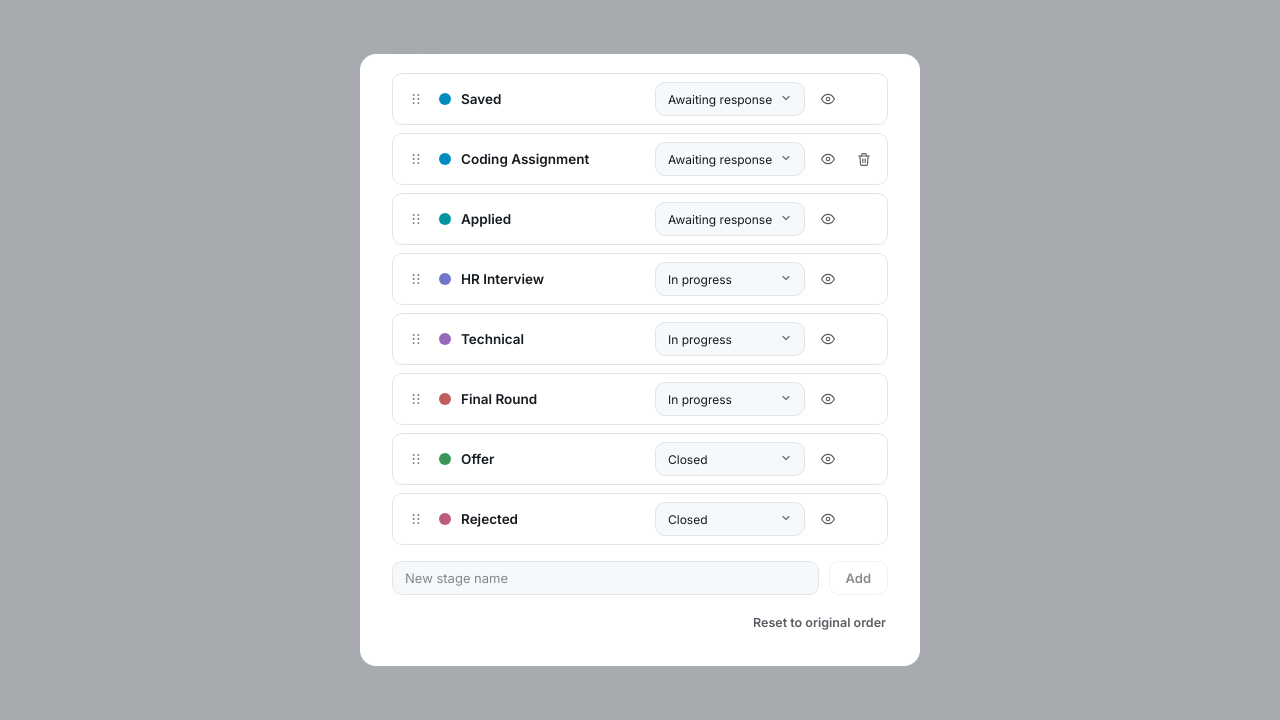
Scenario: PipelineStagesModal › opens the reassign dialog instead of deleting when the custom stage has applications
The image size is (1280, 720).
(page scrolled)
Expected: the text "Coding Assignment" is shown, x1=461 y1=151 x2=589 y2=167
Click the button named "Delete": (864, 159) x1=851 y1=146 x2=877 y2=172
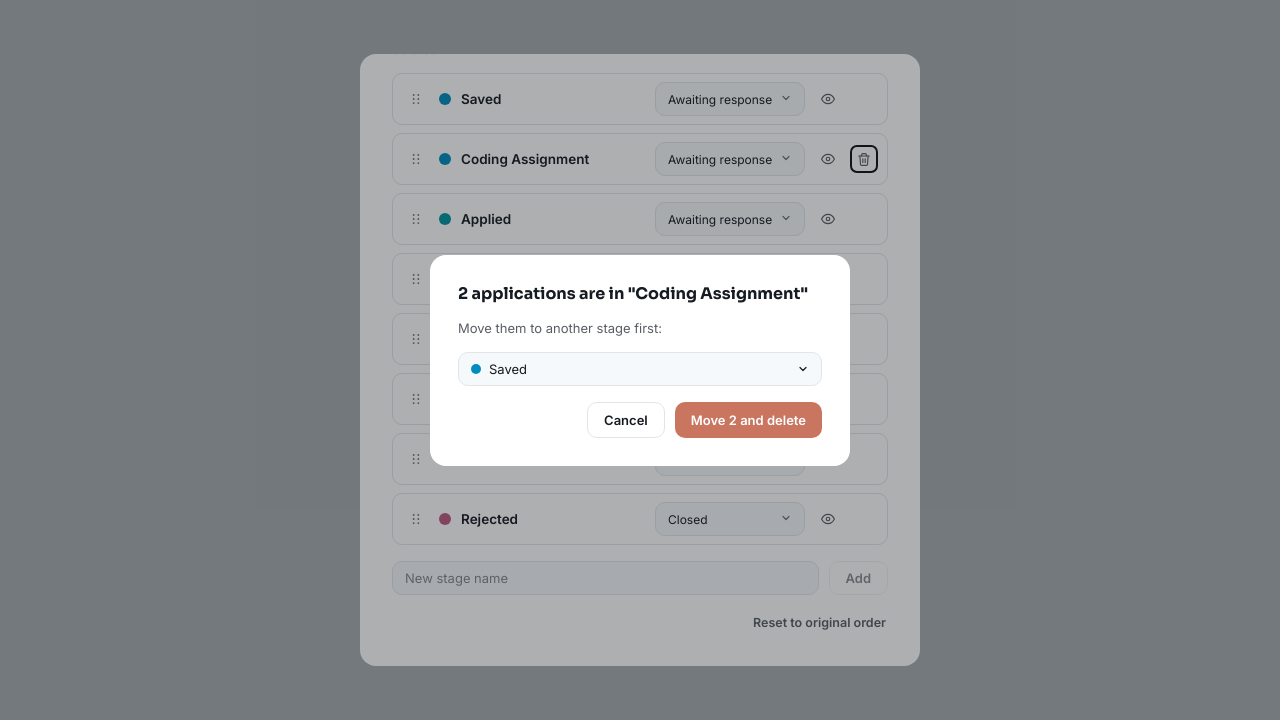
Result: the heading "2 applications are in \"Coding Assignment\"" is shown at x1=458 y1=282 x2=822 y2=304
